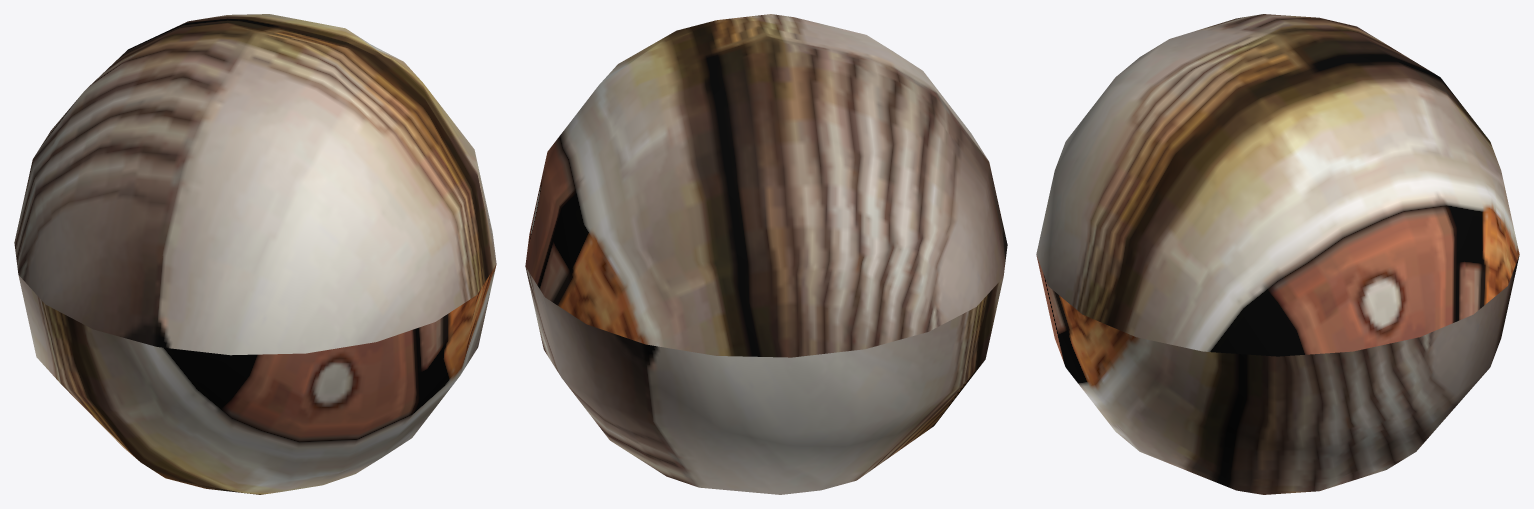
Rendered from junkrat_grenade.obj.
3 renders of one model, left to right at view 1: azimuth 30°, elevation 25°; view 2: azimuth 150°, elevation 25°; view 3: azimuth 270°, elevation 25°, orthographic.
Visible parts, largest first — view 1: Submesh_15.1.B4A12BBA474C141C.002; view 2: Submesh_15.1.B4A12BBA474C141C.002; view 3: Submesh_15.1.B4A12BBA474C141C.002.
Part boxes in pixels (left/top/right/bottom): Submesh_15.1.B4A12BBA474C141C.002: left=14, top=14, right=496, bottom=494; Submesh_15.1.B4A12BBA474C141C.002: left=525, top=14, right=1007, bottom=494; Submesh_15.1.B4A12BBA474C141C.002: left=1036, top=14, right=1519, bottom=494.
Size of the model in its own units: 0.0693 by 0.0693 by 0.0693.
